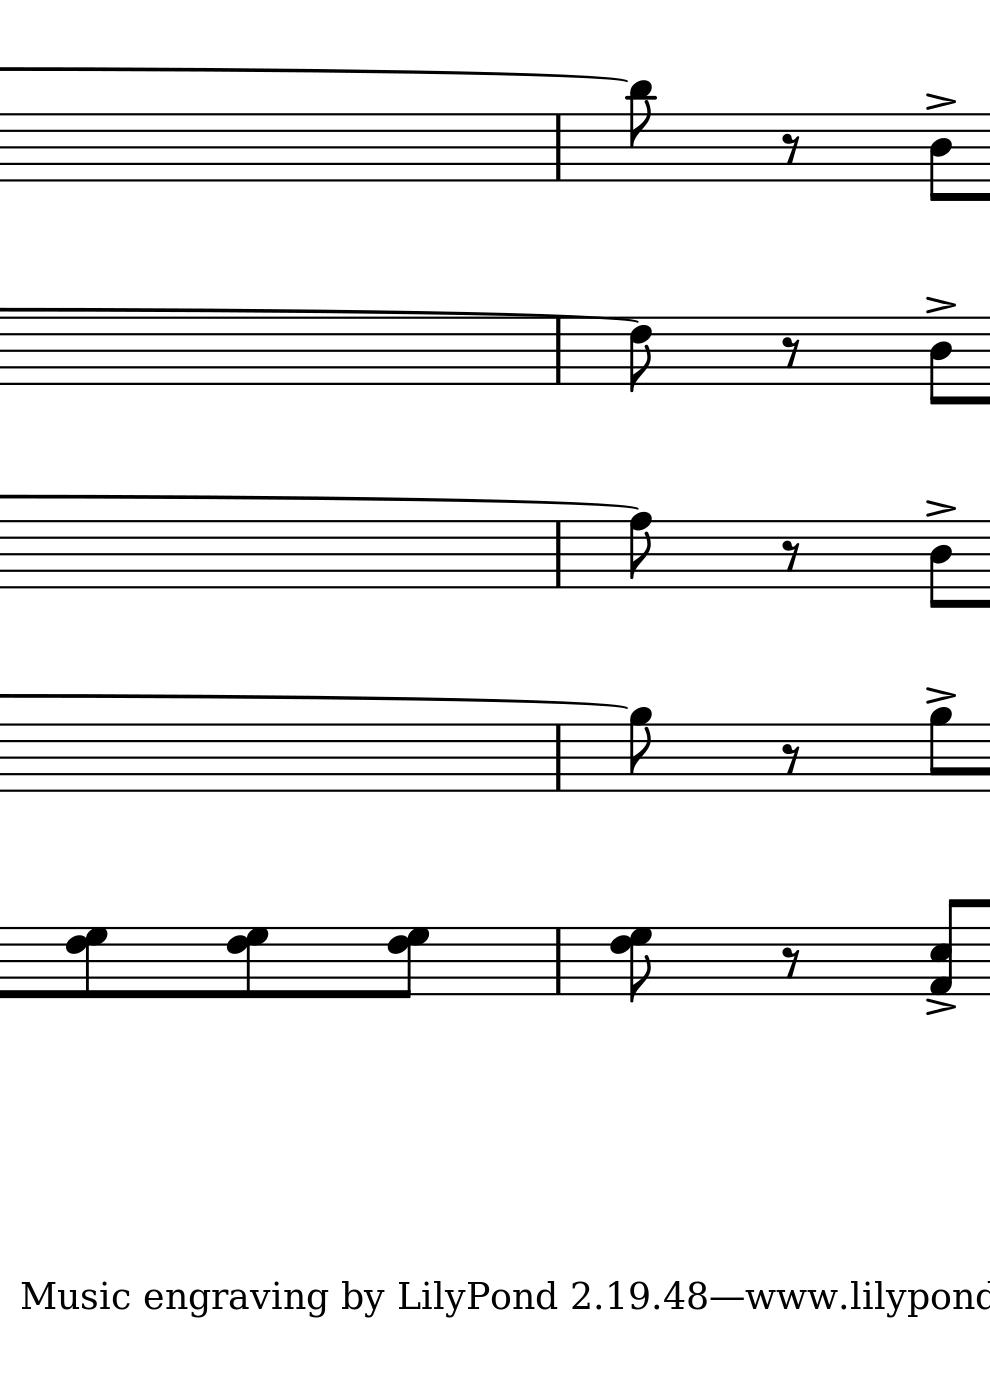8_11: (627, 78, 656, 184)
8_1_5: (931, 898, 967, 995)
8_4: (928, 111, 955, 204), (928, 315, 952, 407), (929, 520, 952, 609)
8_6: (628, 315, 654, 393)
8_6_7: (66, 925, 110, 1002), (228, 925, 272, 1002), (610, 925, 654, 1002), (386, 925, 430, 1000)
8_8: (627, 511, 652, 590)
8_9: (627, 706, 655, 794), (929, 706, 952, 795)
Accent_above: (924, 89, 958, 112), (922, 684, 958, 706), (924, 293, 956, 317), (921, 997, 959, 1017), (926, 497, 956, 518)
Rests8: (780, 740, 805, 780), (779, 944, 802, 981), (780, 131, 800, 166), (782, 333, 801, 370), (780, 539, 800, 573)
Single_barline: (547, 927, 568, 994), (547, 318, 568, 383), (547, 522, 568, 587), (547, 725, 568, 791), (547, 114, 567, 181)
